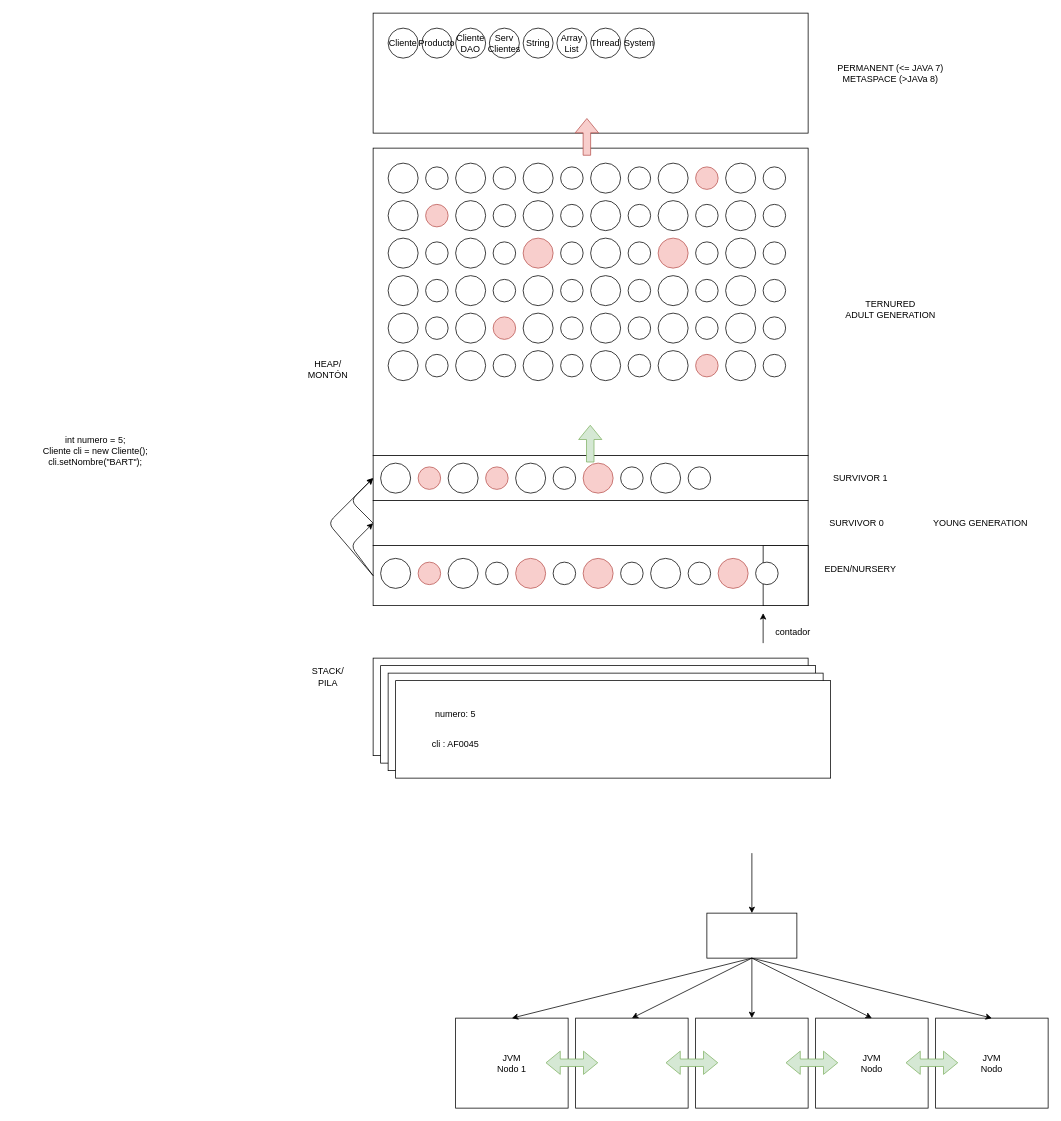
Some shapes in this 1061 by 1121 pixel diagram are drawn without their labels. Here are the shapes that lost their labels. From the top down, the centre of each, then its label:
point 751,935: BALANCEADOR
point 631,1062: JVM Nodo 2
point 751,1062: JVM Nodo 3
